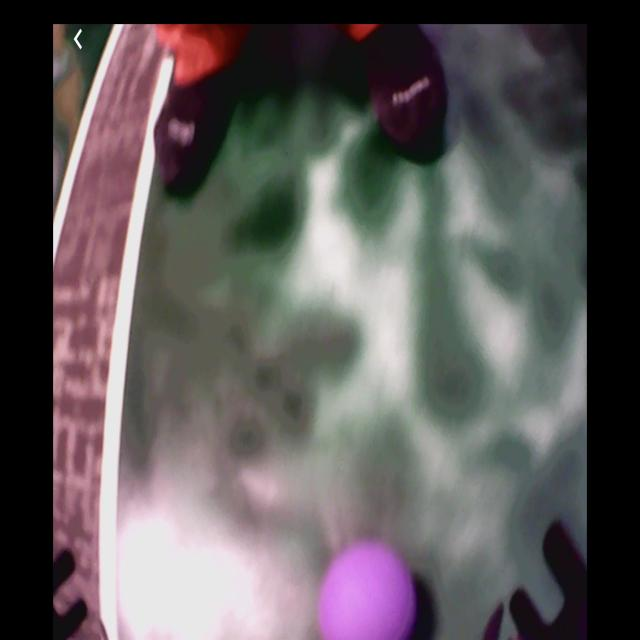ball: (322, 541, 414, 639)
